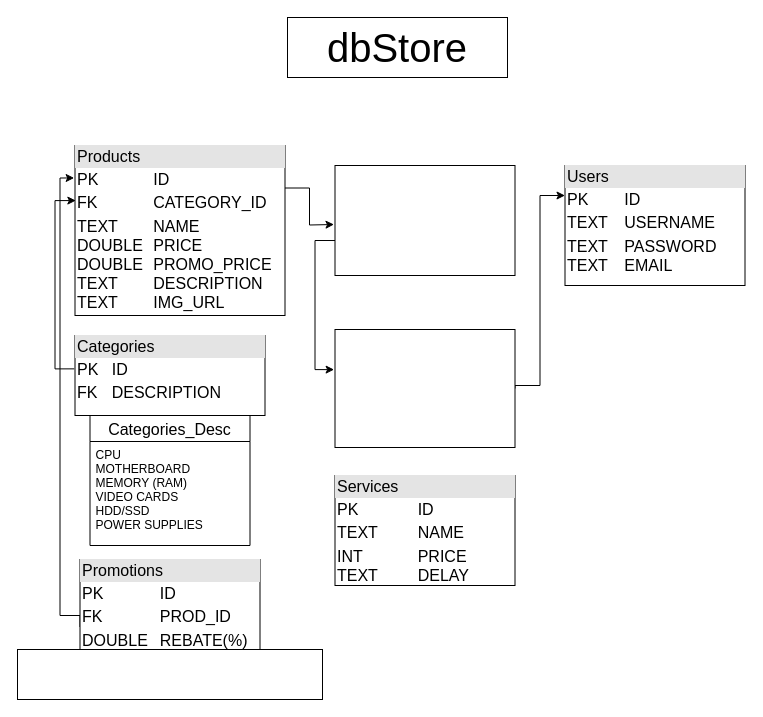
Image size: 763x717. Some labels were removed from this diagram. Each missing label, with the centre of its shape:
"IF a promo exists for PROD_ID Calculate and assign PROMO_PRICE" goes at pixel 169 674.
"Order PK ID FK DATE USER_ID DATETIME" goes at pixel 424 388.
"Order_List PK ID FK FK INT PROD_ID ORDER_ID QUANTITY" goes at pixel 424 220.
